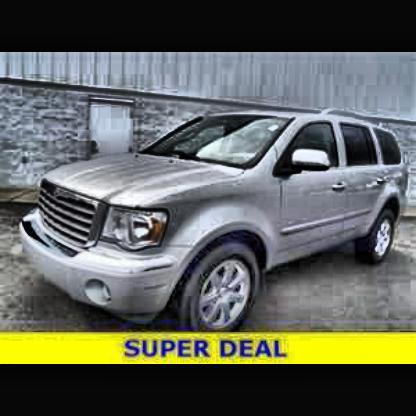Chrysler Aspen SUV 2009: (15, 111, 414, 334)
